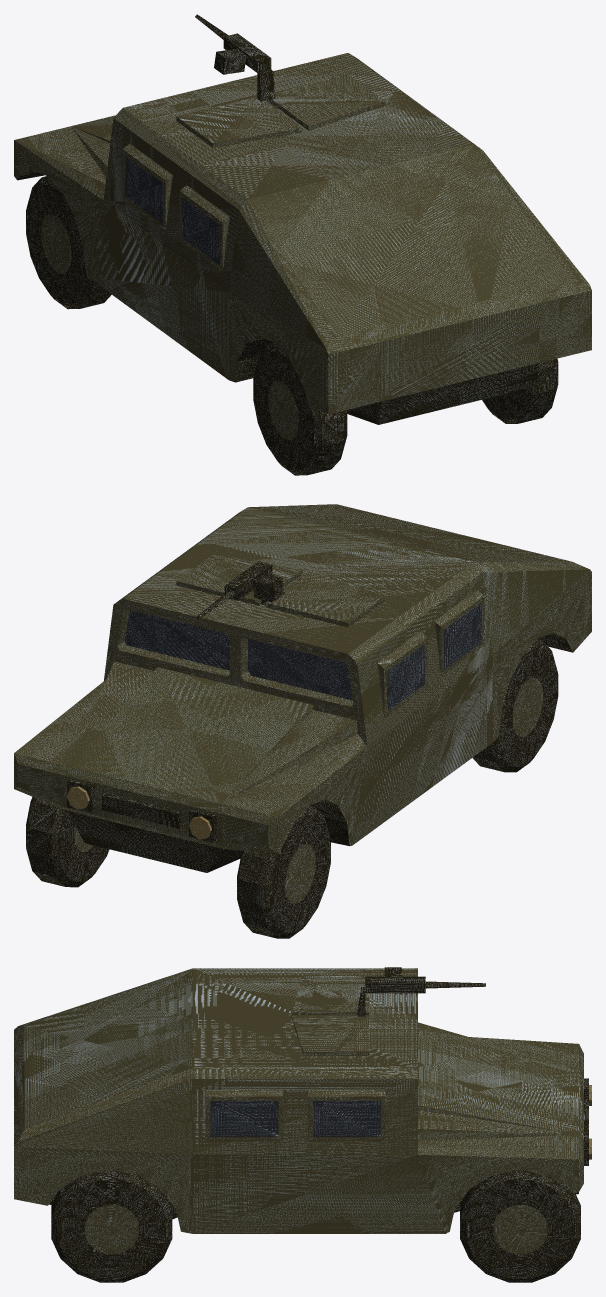
The model's file is RT5_jeep.dae.
3 views of the same model, one above another, from view 1: azimuth 30°, elevation 25°; view 2: azimuth 150°, elevation 25°; view 3: azimuth 270°, elevation 25° (orthographic). The views are drawn at different scales.
Visible parts, largest first — view 1: HMMV_01 (×16); view 2: HMMV_01 (×19); view 3: HMMV_01 (×12).
Boxes of the visible parts, x1,y1,x2,y2 form: HMMV_01 (×16): (14,33,591,475); HMMV_01 (×19): (14,504,591,938); HMMV_01 (×12): (14,968,583,1282).
Bounding box in the file's own units: 2.12 × 4.48 × 2.15.
